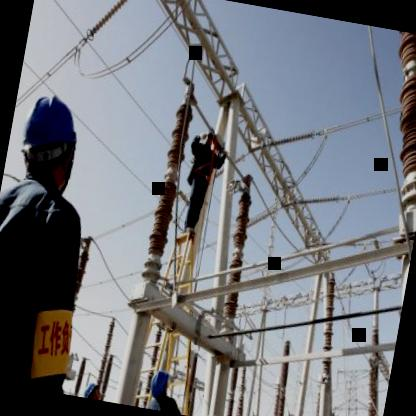helmet: (8, 85, 89, 203), (146, 367, 174, 404), (82, 378, 106, 400)
